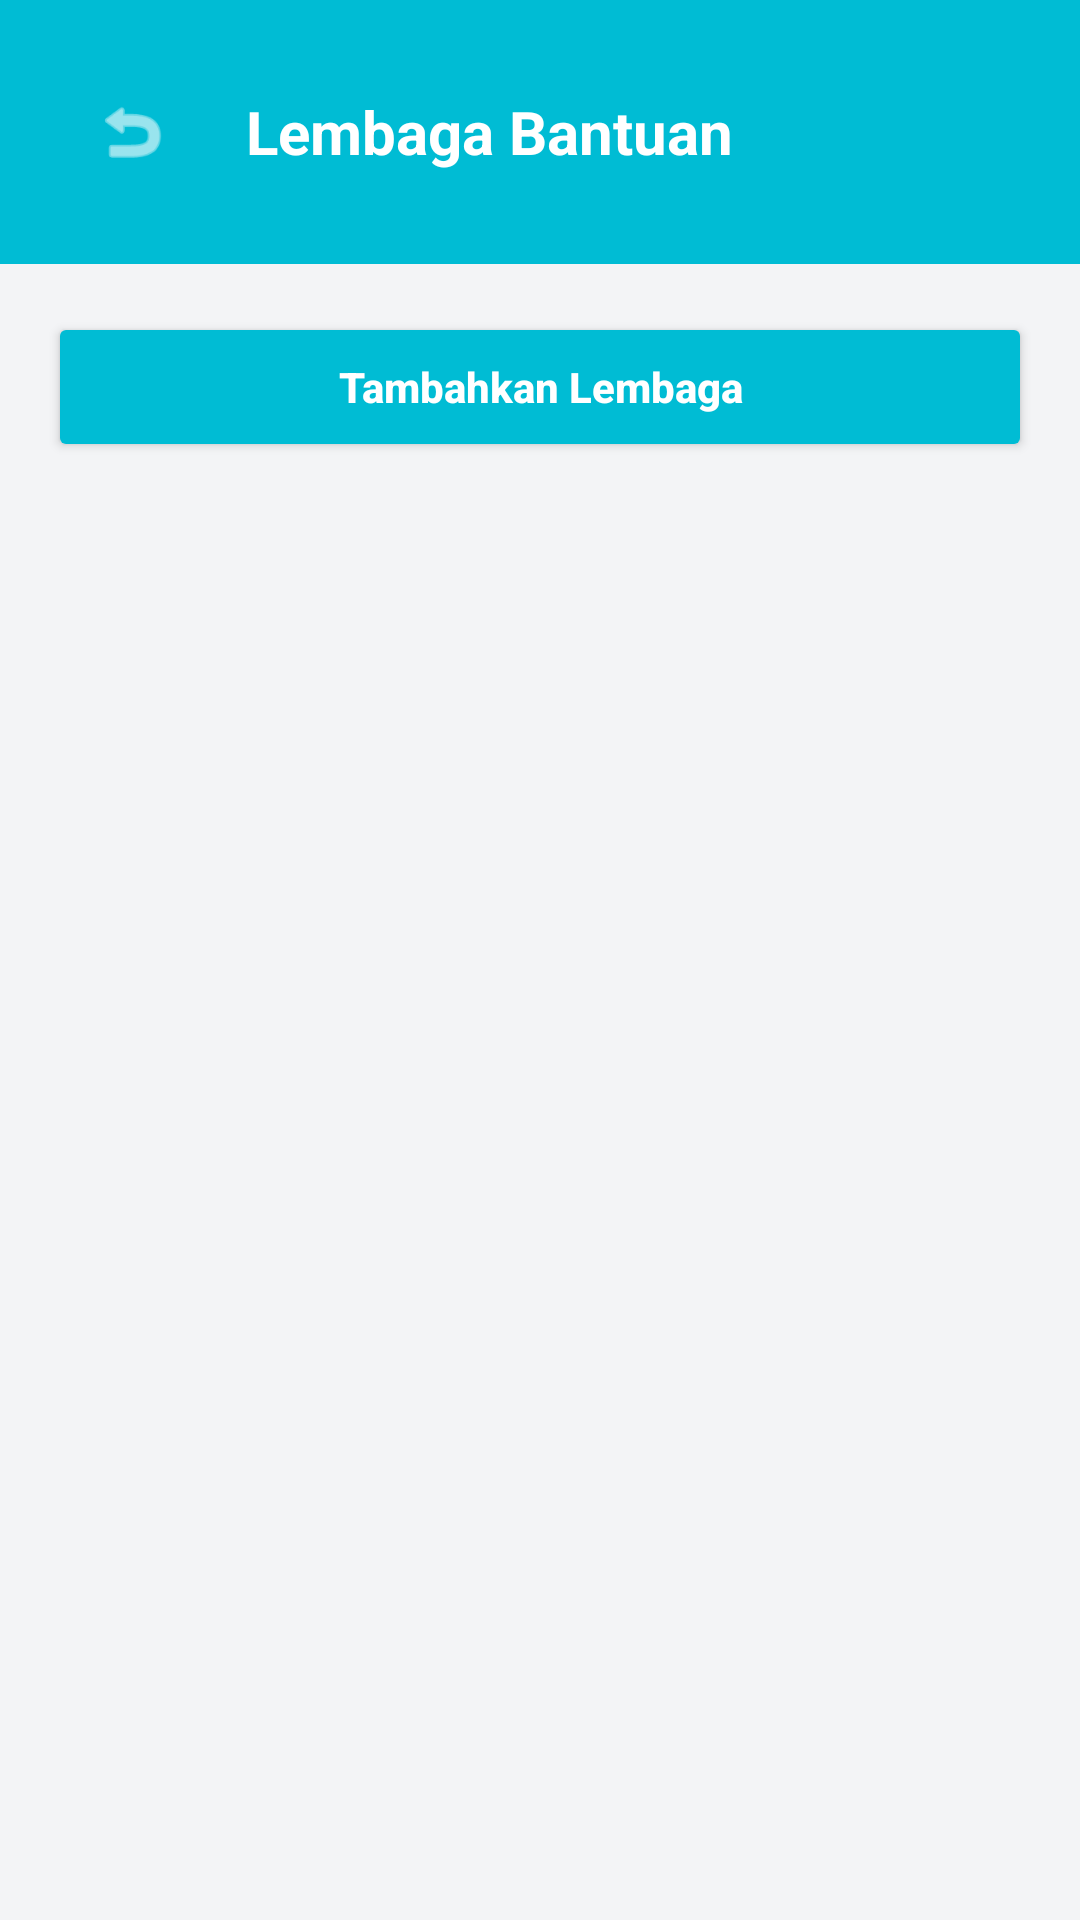

Icons on this 1080×1920 Android screen, each with the point to tap as [x,y]:
revert: [133,132]
